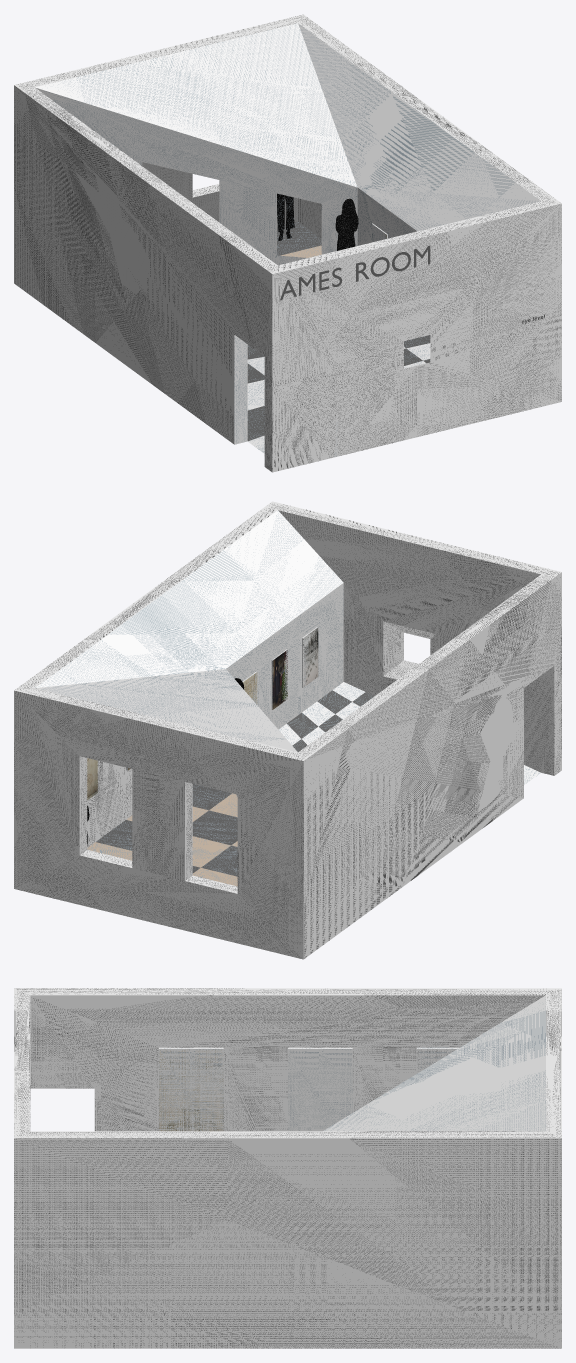
3 views of the same model, one above another, from view 1: azimuth 30°, elevation 25°; view 2: azimuth 150°, elevation 25°; view 3: azimuth 270°, elevation 25° (orthographic). The views are drawn at different scales.
Visible parts, largest first — view 1: SketchUp (×4), _2d_silhouette__woman_standing (×2); view 2: SketchUp (×7), image_3, image_4; view 3: SketchUp (×5), image_0, image_2.
Part boxes in pixels (<box>): SketchUp (×4): <box>14,14,561,472</box>; _2d_silhouette__woman_standing (×2): <box>277,193,358,250</box>; SketchUp (×7): <box>14,501,561,959</box>; image_3: <box>272,650,287,709</box>; image_4: <box>303,627,318,687</box>; SketchUp (×5): <box>14,988,561,1348</box>; image_0: <box>288,1049,352,1131</box>; image_2: <box>159,1049,223,1131</box>.
Size of the model in its own units: 217 by 335 by 142.
Materials: 11 (5 with a texture image).
